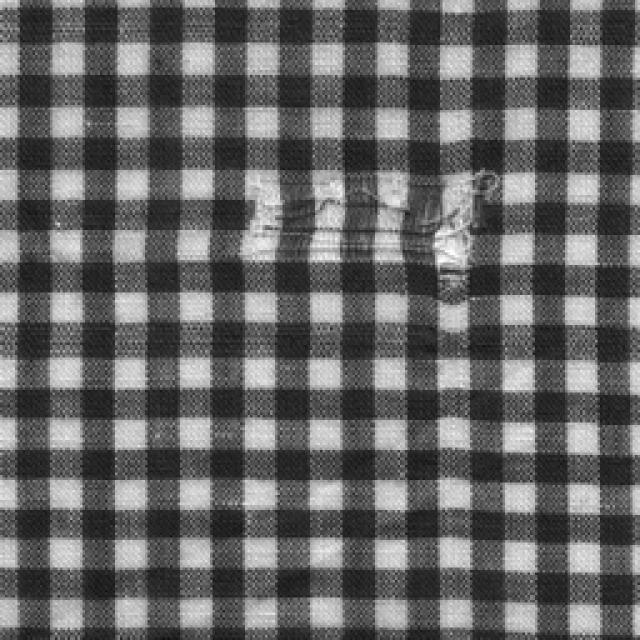defect: (240, 167, 498, 297)
